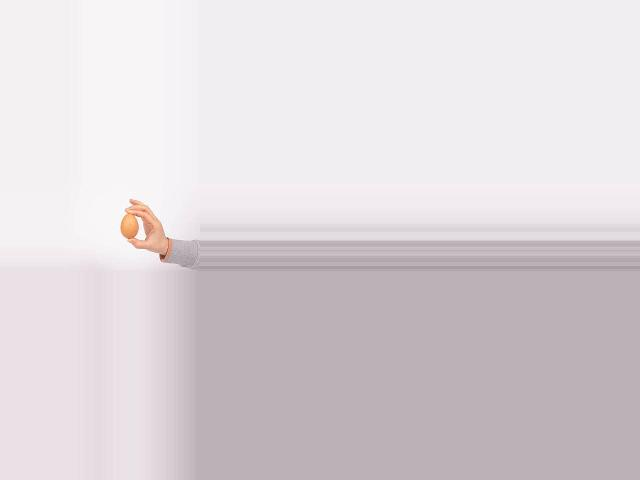egg: (120, 213, 137, 238)
